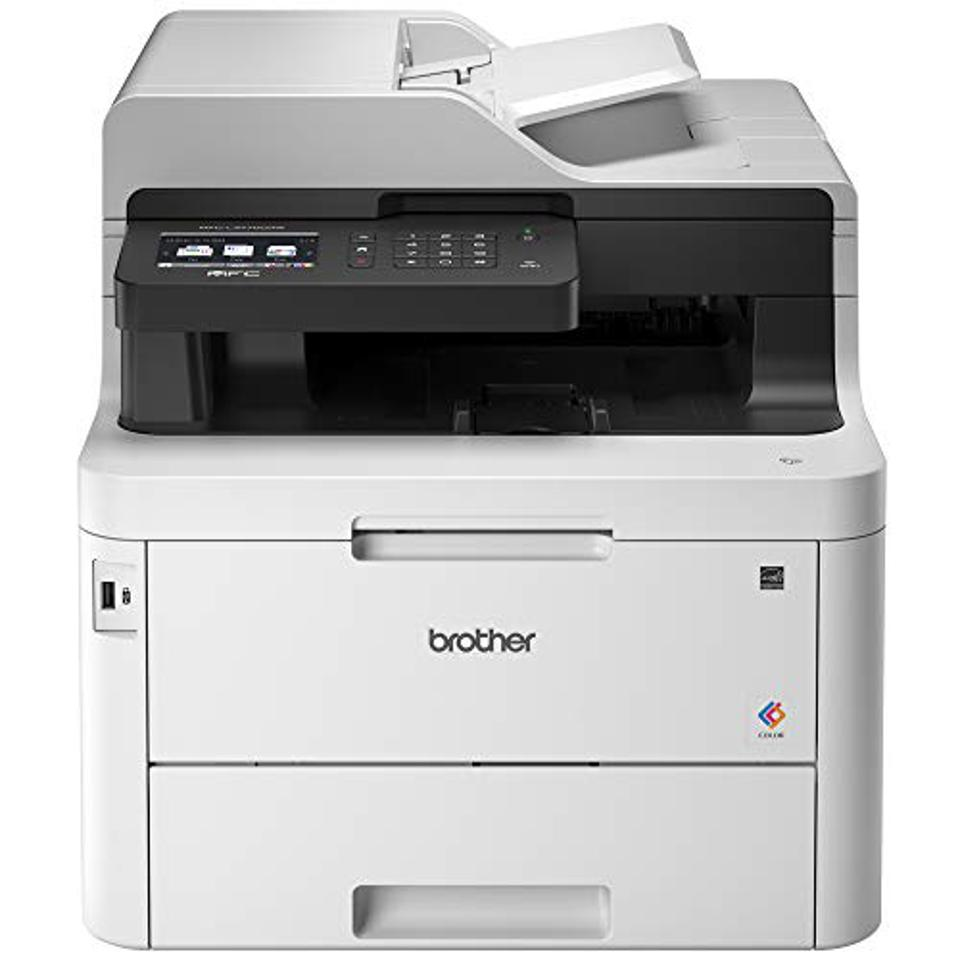printer: (64, 15, 896, 953)
